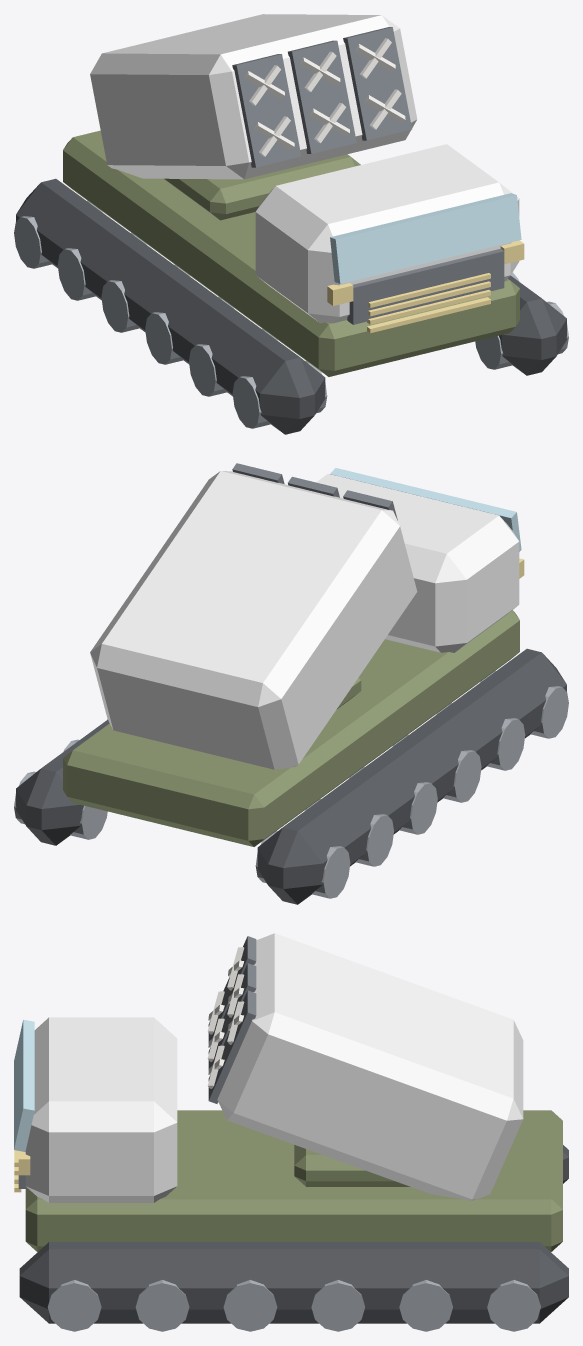
The model's file is arty.glb.
3 views of the same model, one above another, from view 1: azimuth 30°, elevation 25°; view 2: azimuth 150°, elevation 25°; view 3: azimuth 270°, elevation 25° (orthographic).
Visible parts, largest first — view 1: main, turret; view 2: main, turret; view 3: main, turret.
Part boxes in pixels (x1=…): main: x1=14, y1=130, x2=568, y2=434; turret: x1=90, y1=14, x2=417, y2=220; main: x1=14, y1=468, x2=568, y2=904; turret: x1=90, y1=463, x2=417, y2=769; main: x1=14, y1=1017, x2=568, y2=1331; turret: x1=207, y1=933, x2=523, y2=1201.
Bounding box in the file's own units: 0.615 × 0.5438 × 0.9497.
